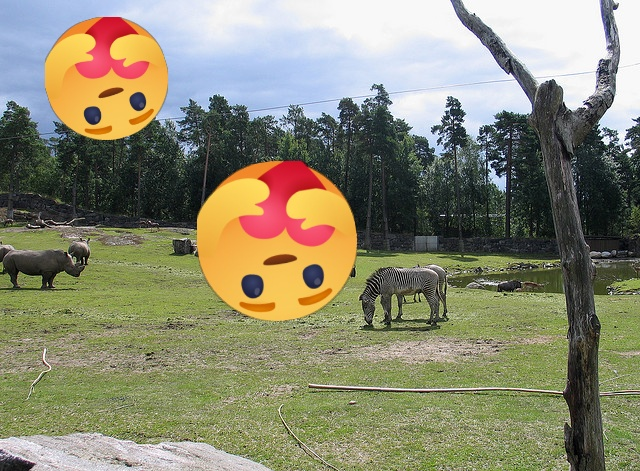care: (197, 161, 357, 321), (45, 17, 168, 140)
